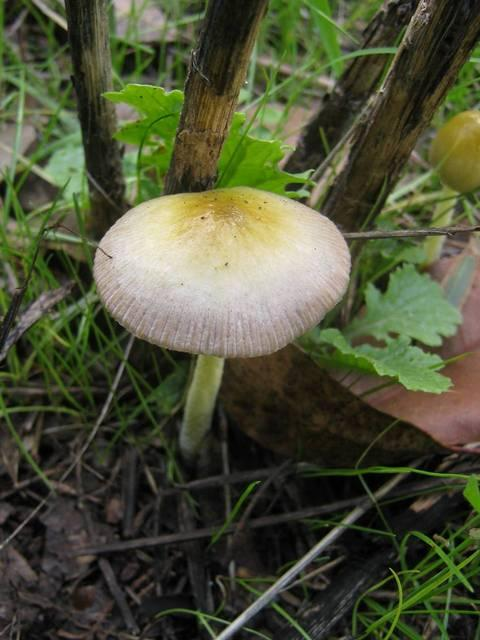edible_mushroom: (90, 184, 352, 464)
